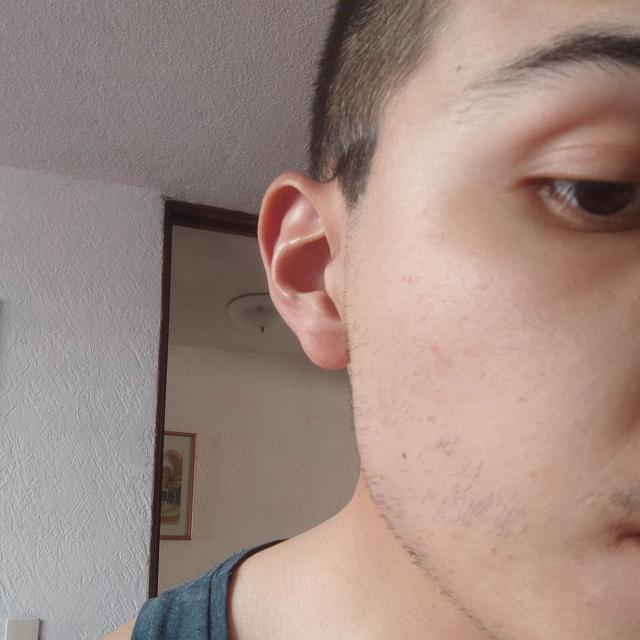ear: (258, 173, 349, 369)
